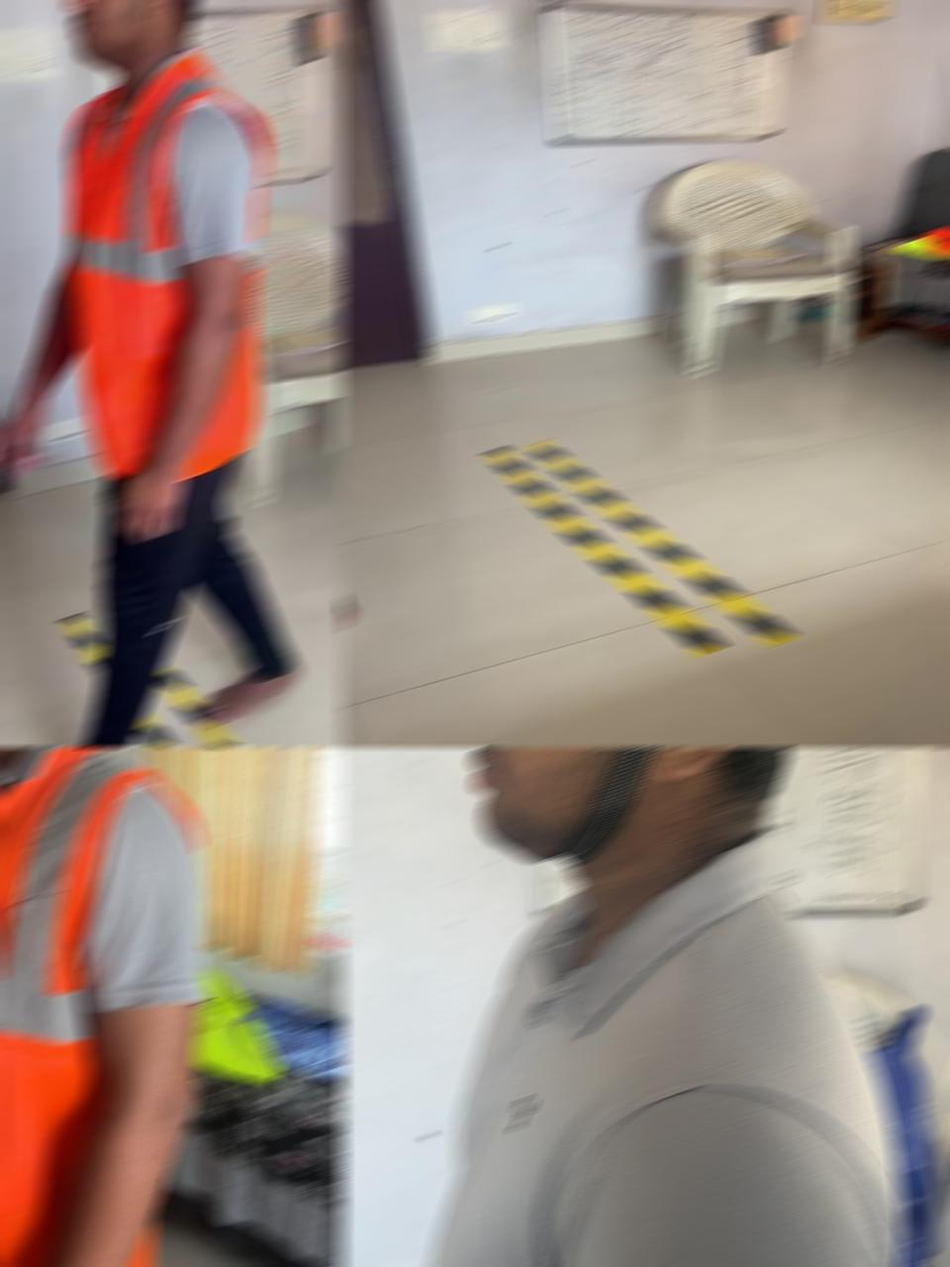BorderLine: (480, 441, 800, 653), (57, 614, 344, 746)
Helmet: (412, 748, 853, 866)
No_Helmet: (64, 1, 200, 67)
No_Vest: (406, 824, 904, 1266)
Person: (406, 748, 904, 1266), (0, 1, 304, 746), (0, 748, 212, 1266)
Vest: (0, 748, 204, 1266), (66, 51, 272, 480)
